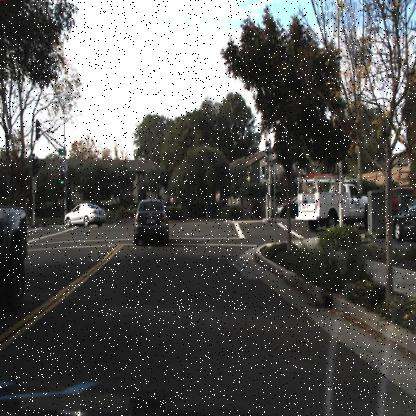car: (291, 164, 375, 232), (254, 182, 320, 232), (0, 205, 28, 313), (128, 192, 172, 255), (60, 196, 107, 236), (270, 186, 300, 224), (390, 198, 415, 240)
trafficLight-Green: (58, 167, 66, 190), (260, 162, 266, 181)
